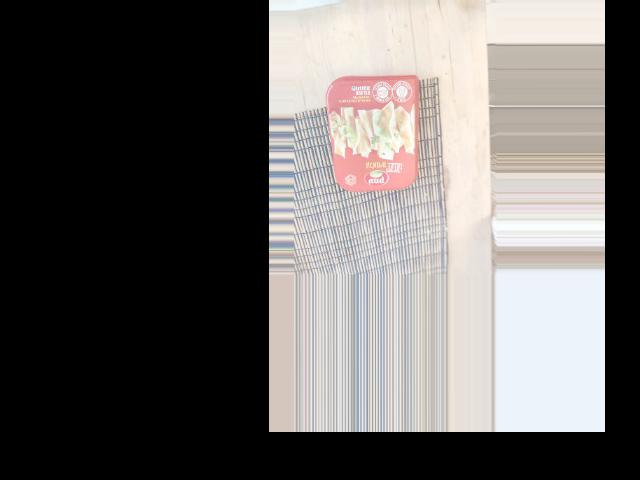cheese: (298, 147, 419, 239)
